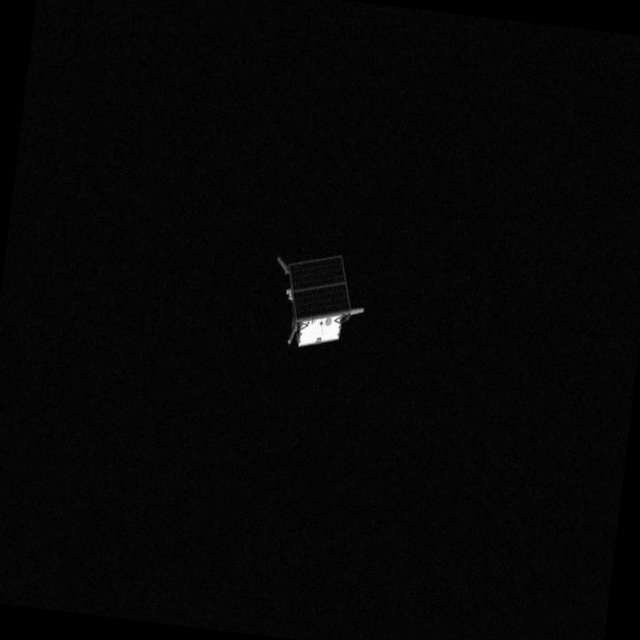satellite: (259, 240, 374, 353)
